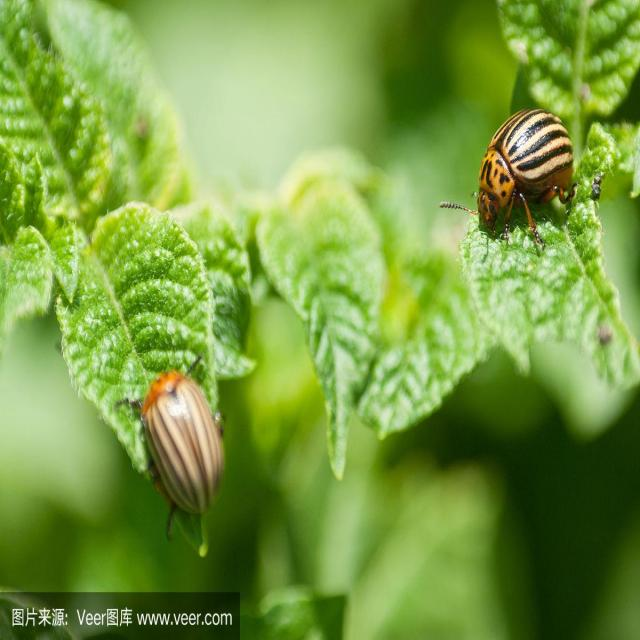ShuCaiHuaBanChong-Grown-: (112, 333, 254, 542), (444, 97, 598, 249)
